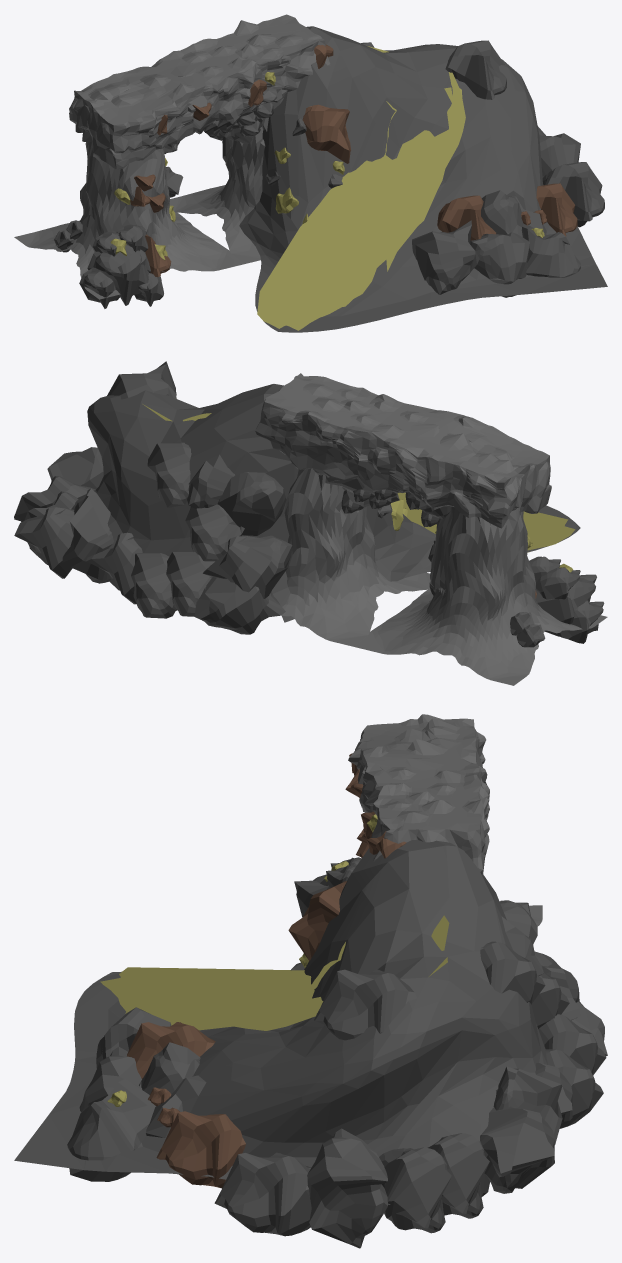
Rendered from Mountain4.fbx.
3 renders of one model, top to bottom at view 1: azimuth 30°, elevation 25°; view 2: azimuth 150°, elevation 25°; view 3: azimuth 270°, elevation 25°, orthographic. The views are drawn at different scales.
Visible parts, largest first — view 1: Plane.001; view 2: Plane.001; view 3: Plane.001.
Part boxes in pixels (x1,y1,x2,y2): Plane.001: [14, 14, 607, 332]; Plane.001: [14, 361, 607, 685]; Plane.001: [14, 714, 607, 1248].
Bounding box in the file's own units: 19064 × 7789 × 14800.
